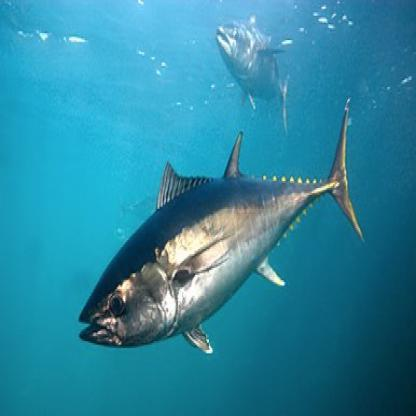tuna: (74, 94, 370, 355), (212, 10, 294, 133)
